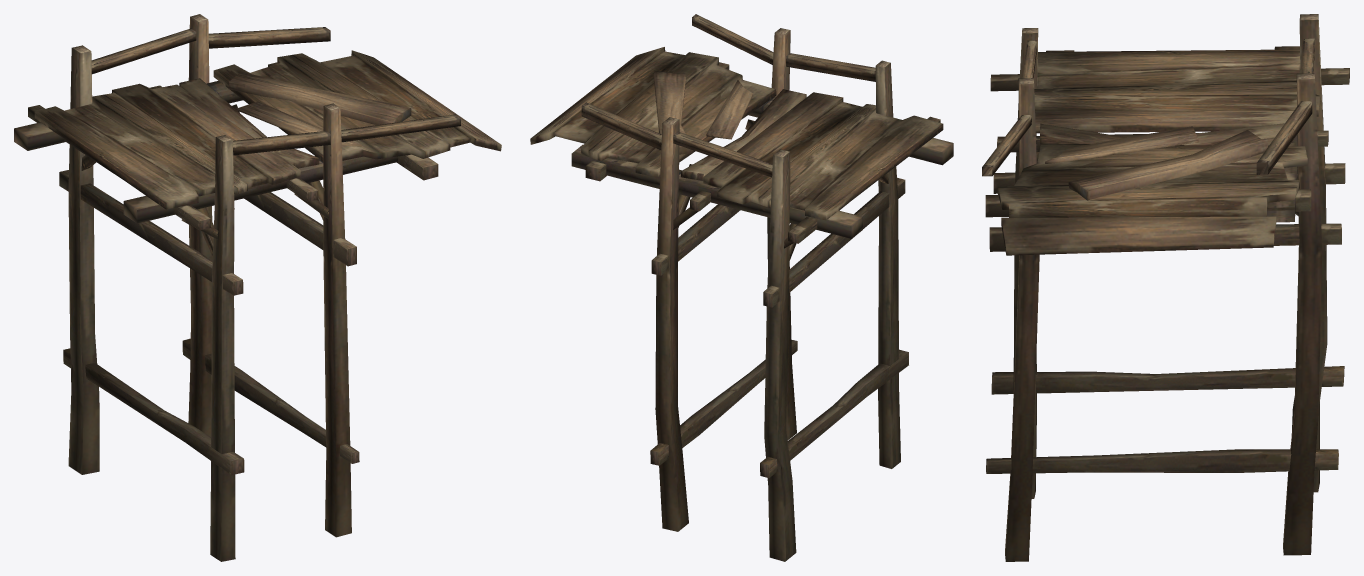
The model's file is XiaoMuQiao.FBX.
3 renders of one model, left to right at view 1: azimuth 30°, elevation 25°; view 2: azimuth 150°, elevation 25°; view 3: azimuth 270°, elevation 25°, orthographic. The views are drawn at different scales.
Parts seen in each view (by area): view 1: XiaoMuQiao; view 2: XiaoMuQiao; view 3: XiaoMuQiao.
Part boxes in pixels (x1,y1,x2,y2): XiaoMuQiao: [14, 14, 501, 561]; XiaoMuQiao: [530, 14, 953, 561]; XiaoMuQiao: [982, 14, 1349, 561].
Size of the model in its own units: 412 by 467 by 328.
